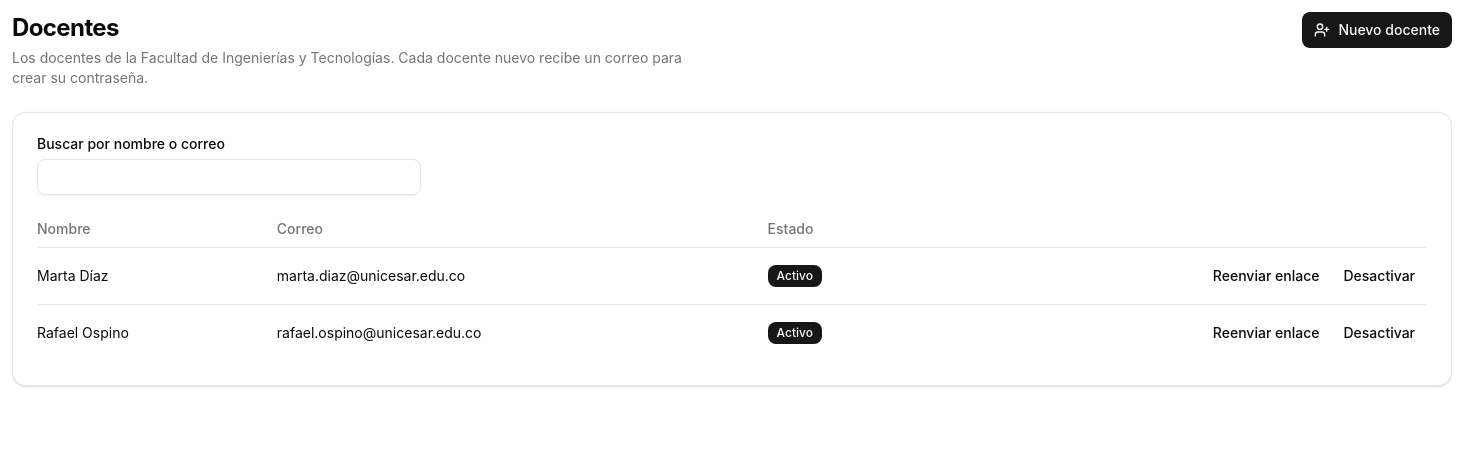
Scenario: TeachersPage › deactivates a teacher after confirming and can reactivate them
Click the button with aria-label "Desactivar a Marta Díaz": (1379, 276) [1332,260,1427,292]
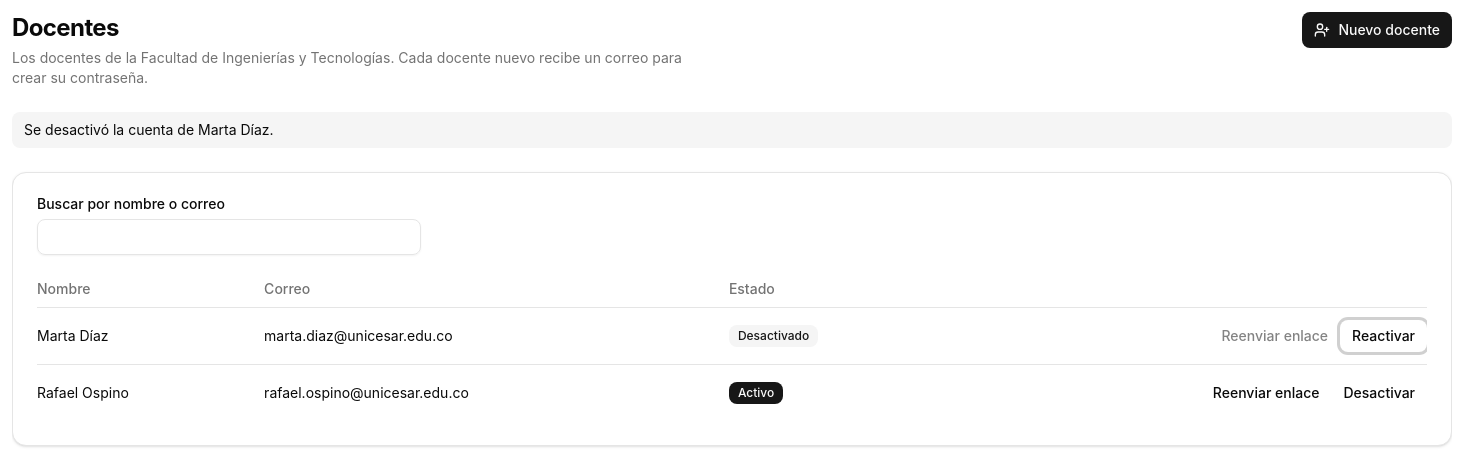
Expected: the text "Desactivado" is shown, [729,325,818,347]
Expected: the button with aria-label "Reenviar enlace a Marta Díaz" is disabled, [1210,320,1340,352]
Click the button with aria-label "Reactivar a Marta Díaz": (1384, 336) [1340,320,1427,352]
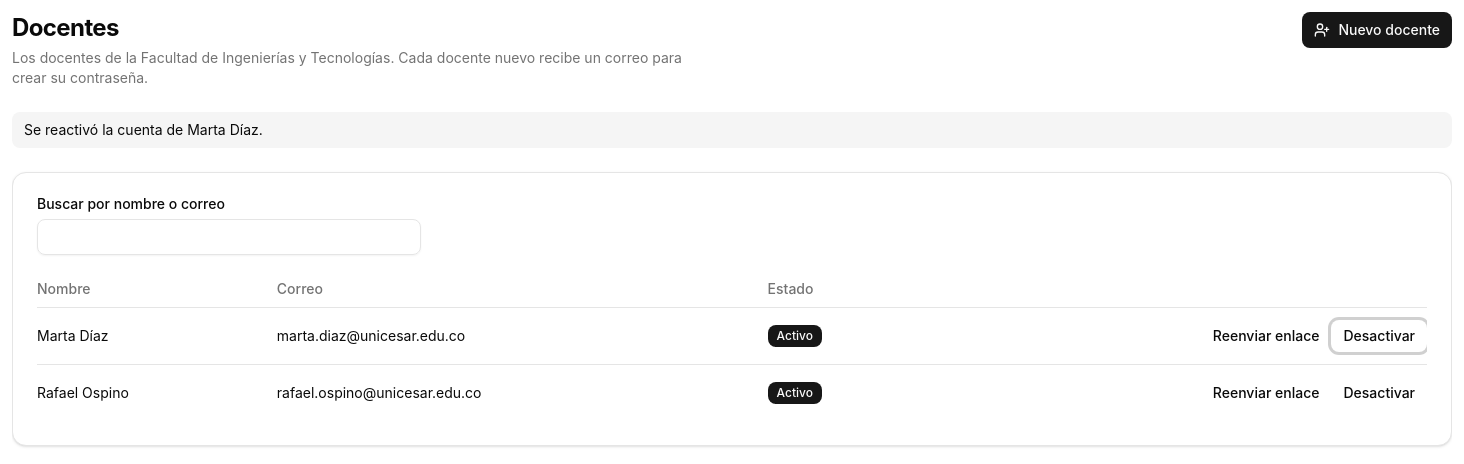
Expected: the text "Activo" in the row of "marta.diaz@unicesar.edu.co" is shown, [777,328,813,343]
